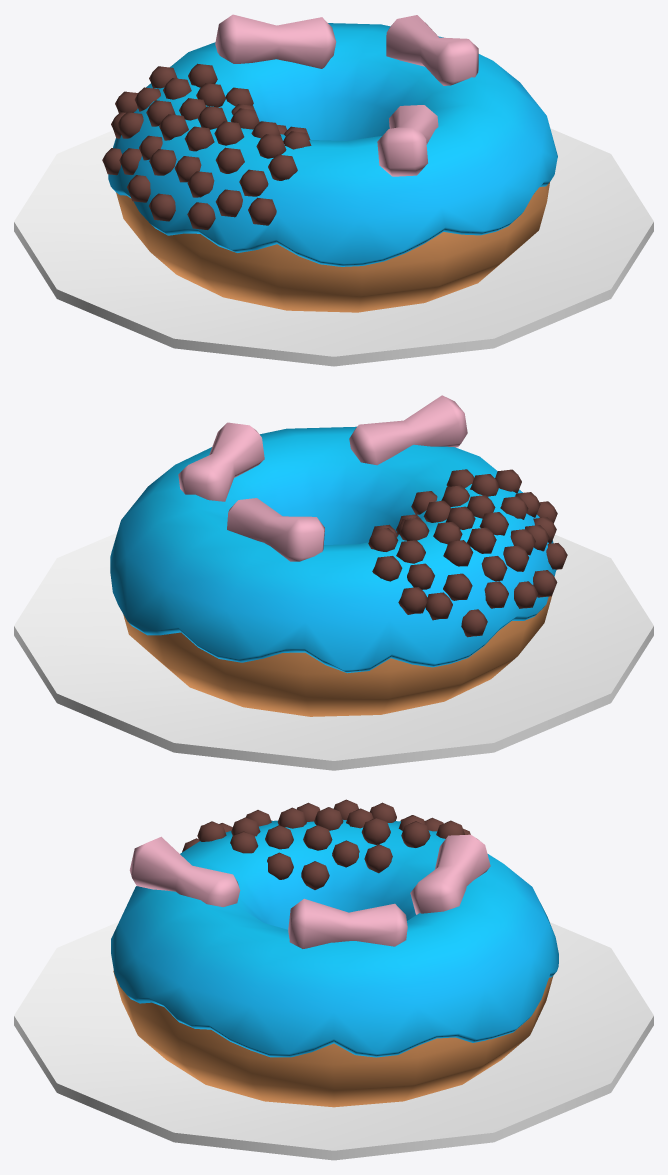
File: DonutBlueberry.fbx
The picture shows the model from 3 angles, top to bottom: view 1: azimuth 30°, elevation 25°; view 2: azimuth 150°, elevation 25°; view 3: azimuth 270°, elevation 25°; orthographic projection.
Parts seen in each view (by area): view 1: Map02_Donut_LV3; view 2: Map02_Donut_LV3; view 3: Map02_Donut_LV3.
Part boxes in pixels (left/top/right/bottom): Map02_Donut_LV3: left=14, top=14, right=653, bottom=366; Map02_Donut_LV3: left=14, top=395, right=653, bottom=770; Map02_Donut_LV3: left=14, top=799, right=653, bottom=1160.
Size of the model in its own units: 105 by 39.54 by 105.
